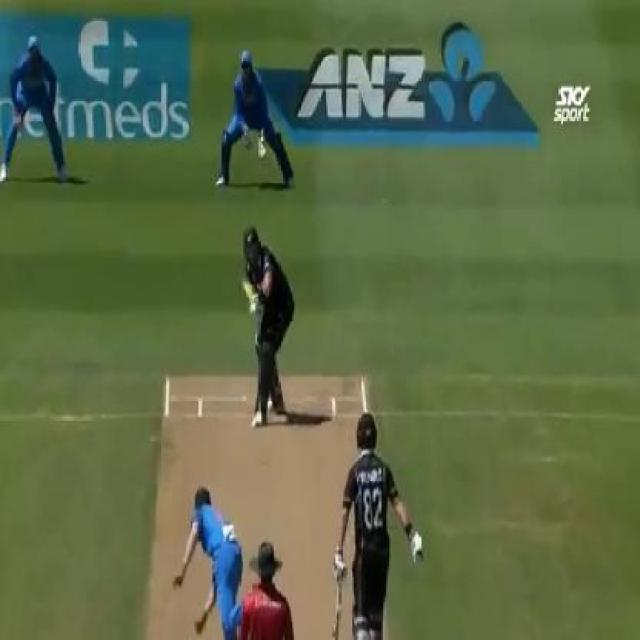Cricket ball: (248, 303, 258, 317)
